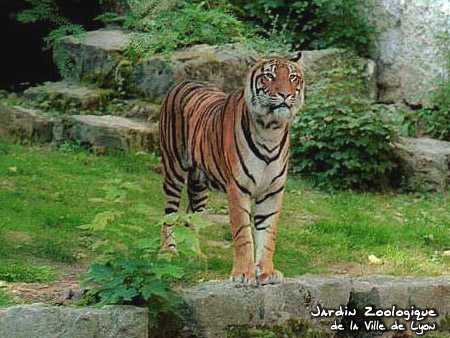Tigre: (143, 53, 312, 297)
